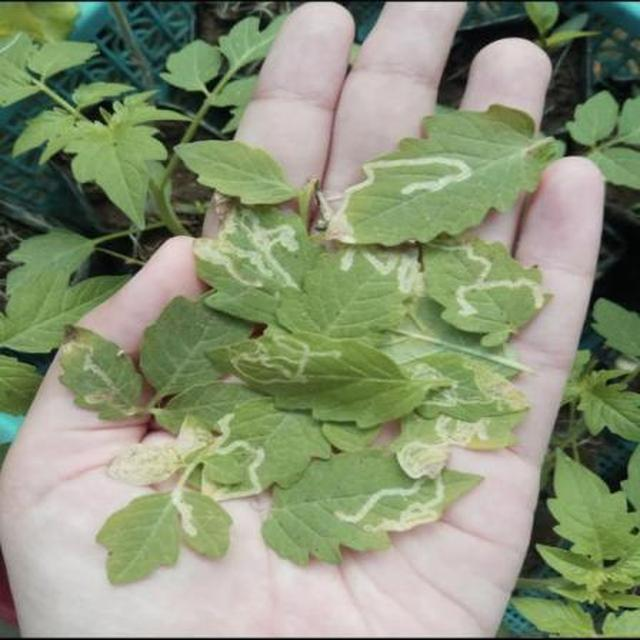Leaf Miner: (123, 96, 640, 640)
